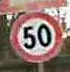limite 50: (8, 10, 63, 63)
